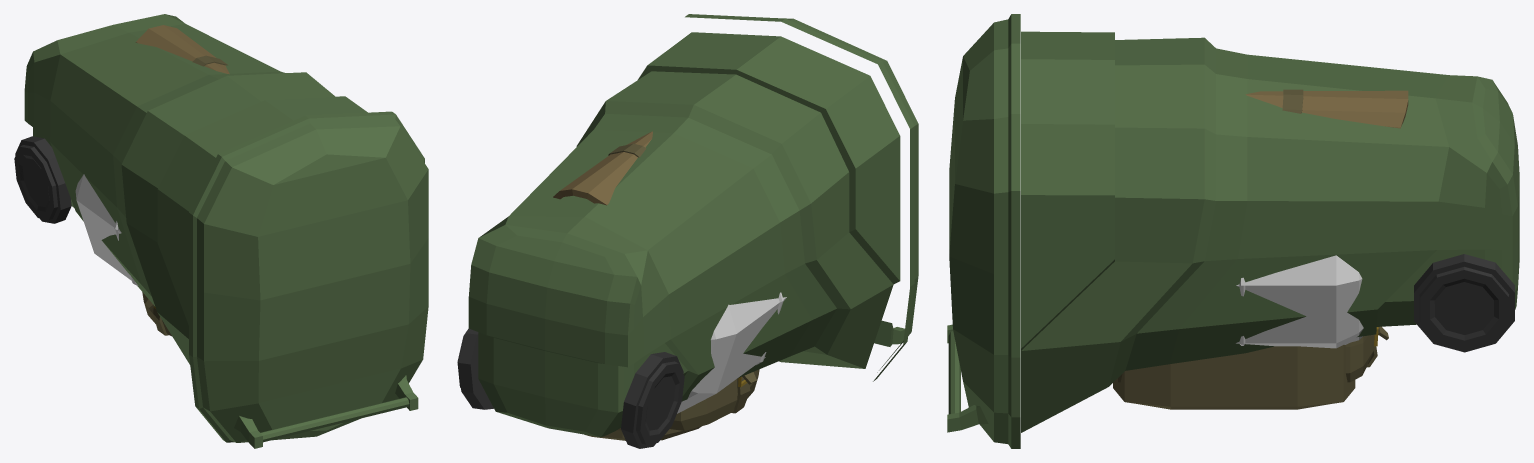
File: props.glb
3 renders of one model, left to right at view 1: azimuth 30°, elevation 25°; view 2: azimuth 150°, elevation 25°; view 3: azimuth 270°, elevation 25°, orthographic. The views are drawn at different scales.
Visible parts, largest first — view 1: Trashcan, Backpack, PropaneTank; view 2: Trashcan, Backpack, PropaneTank; view 3: Trashcan, Backpack, PropaneTank.
Boxes of the visible parts, x1,y1,x2,y2 form: Trashcan: [14, 14, 428, 448]; Backpack: [135, 25, 229, 336]; PropaneTank: [75, 174, 138, 285]; Trashcan: [457, 14, 918, 448]; Backpack: [553, 131, 759, 440]; PropaneTank: [677, 292, 786, 413]; Trashcan: [947, 14, 1519, 448]; Backpack: [1113, 89, 1408, 409]; PropaneTank: [1236, 255, 1363, 348].
Bounding box in the file's own units: 0.4954 × 0.6477 × 0.9.
